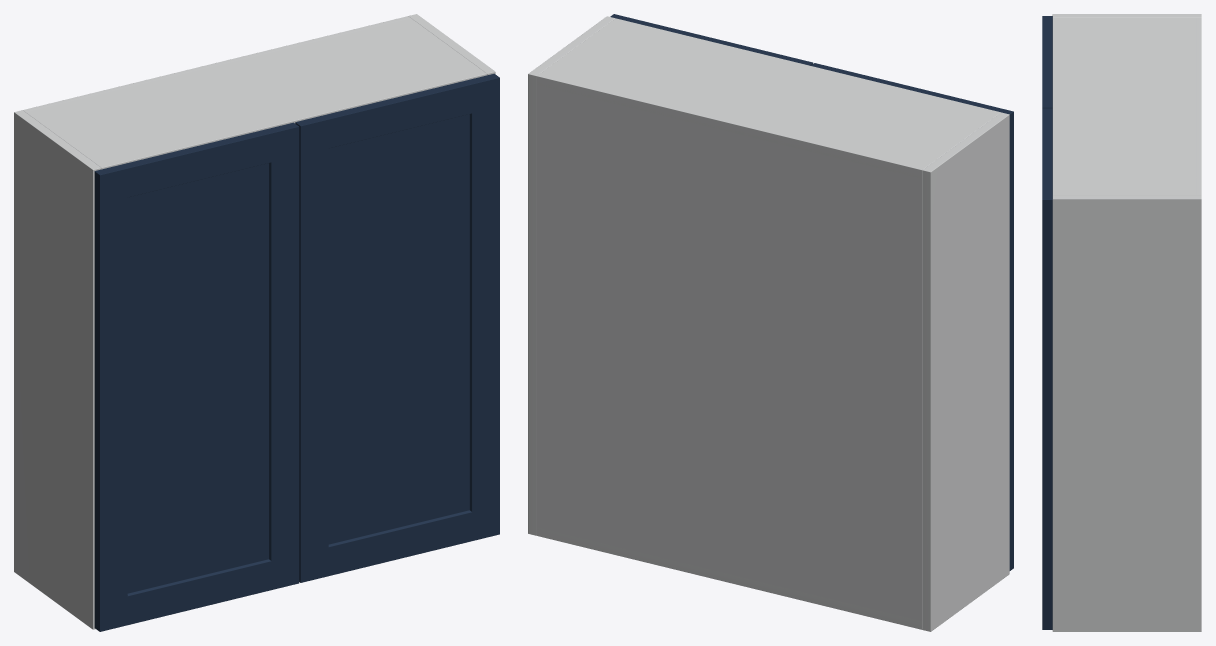
Rendered from oppein-pb-bss-w3336.glb.
3 views of the same model, side by side, from view 1: azimuth 30°, elevation 25°; view 2: azimuth 150°, elevation 25°; view 3: azimuth 270°, elevation 25° (orthographic). The views are drawn at different scales.
Visible parts, largest first — view 1: Door, Door.001, Cabinet side, Cabinet top, Cabinet back, Cabinet side.001; view 2: Cabinet back, Cabinet side, Cabinet top, Cabinet side.001, Cabinet bottom, Door, Door.001; view 3: Cabinet side.001, Cabinet top, Door.001, Cabinet back, Door, Cabinet side.
Part boxes in pixels (left/top/right/bottom): Door: left=94, top=122, right=299, bottom=631; Door.001: left=295, top=73, right=499, bottom=582; Cabinet side: left=14, top=110, right=101, bottom=629; Cabinet top: left=26, top=18, right=486, bottom=169; Cabinet back: left=23, top=16, right=410, bottom=112; Cabinet side.001: left=408, top=14, right=495, bottom=75; Cabinet back: left=536, top=74, right=924, bottom=629; Cabinet side: left=922, top=112, right=1009, bottom=631; Cabinet top: left=536, top=18, right=1000, bottom=178; Cabinet side.001: left=528, top=16, right=614, bottom=535; Cabinet bottom: left=537, top=527, right=922, bottom=629; Door: left=811, top=63, right=1013, bottom=570; Door.001: left=610, top=14, right=813, bottom=65; Cabinet side.001: left=1052, top=195, right=1201, bottom=631; Cabinet top: left=1052, top=18, right=1201, bottom=194; Door.001: left=1042, top=108, right=1052, bottom=629; Cabinet back: left=1195, top=18, right=1201, bottom=194; Door: left=1042, top=16, right=1052, bottom=108; Cabinet side: left=1052, top=14, right=1201, bottom=17.
Bounding box in the file's own units: 0.8382 × 0.9144 × 0.3048.
